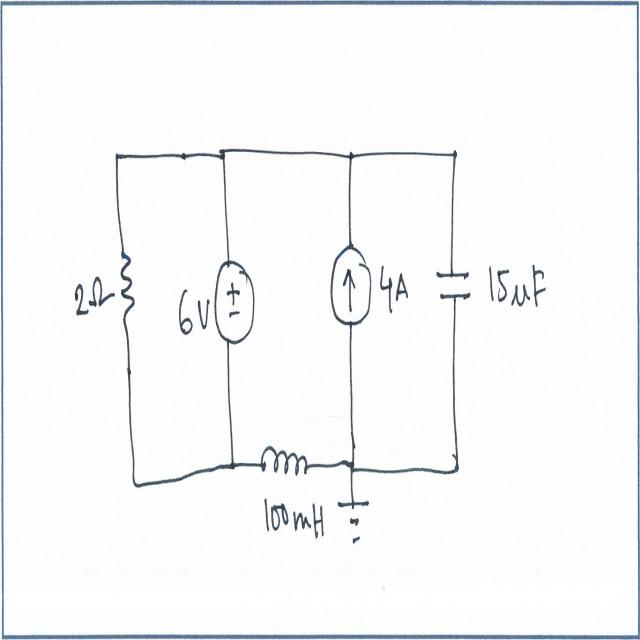capacitor: (435, 264, 471, 312)
current_source: (328, 230, 375, 340)
ground: (336, 492, 371, 560)
inductor: (258, 439, 314, 495)
resistor: (117, 240, 138, 336)
voltage_source: (214, 254, 258, 350)
